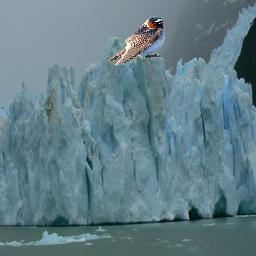Swallow: (108, 16, 165, 67)
